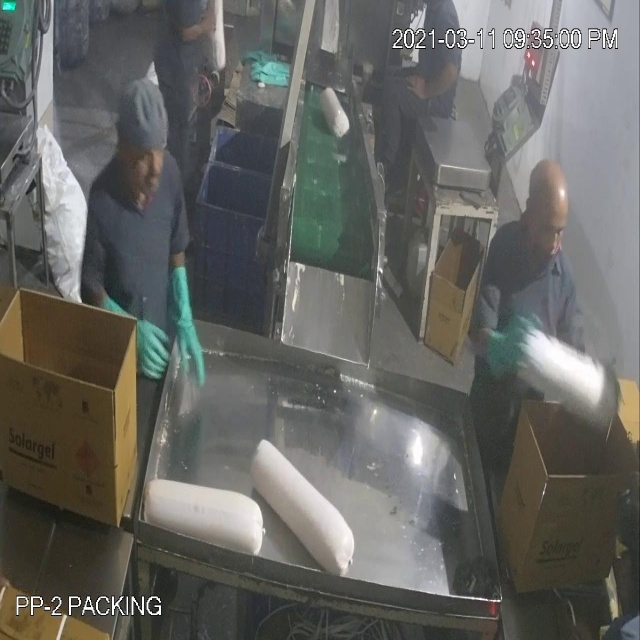Guantes: (477, 315, 544, 385)
Sin_guantes: (168, 1, 232, 59), (401, 54, 465, 111)
